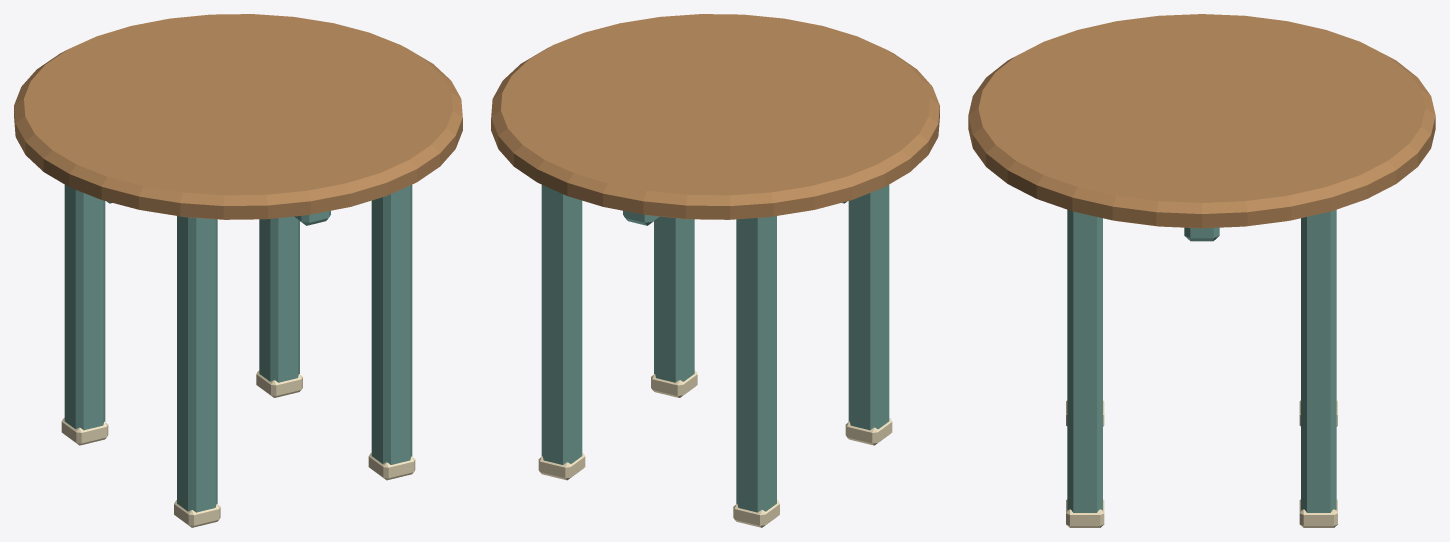
3 views of the same model, side by side, from view 1: azimuth 30°, elevation 25°; view 2: azimuth 150°, elevation 25°; view 3: azimuth 270°, elevation 25° (orthographic). The views are drawn at different scales.
Parts seen in each view (by area): view 1: kitchen-round-table-01; view 2: kitchen-round-table-01; view 3: kitchen-round-table-01.
Part boxes in pixels (<box>): kitchen-round-table-01: <box>14,14,462,527</box>; kitchen-round-table-01: <box>491,14,939,527</box>; kitchen-round-table-01: <box>968,14,1435,527</box>.
Size of the model in its own units: 0.92 by 0.79 by 0.92.
